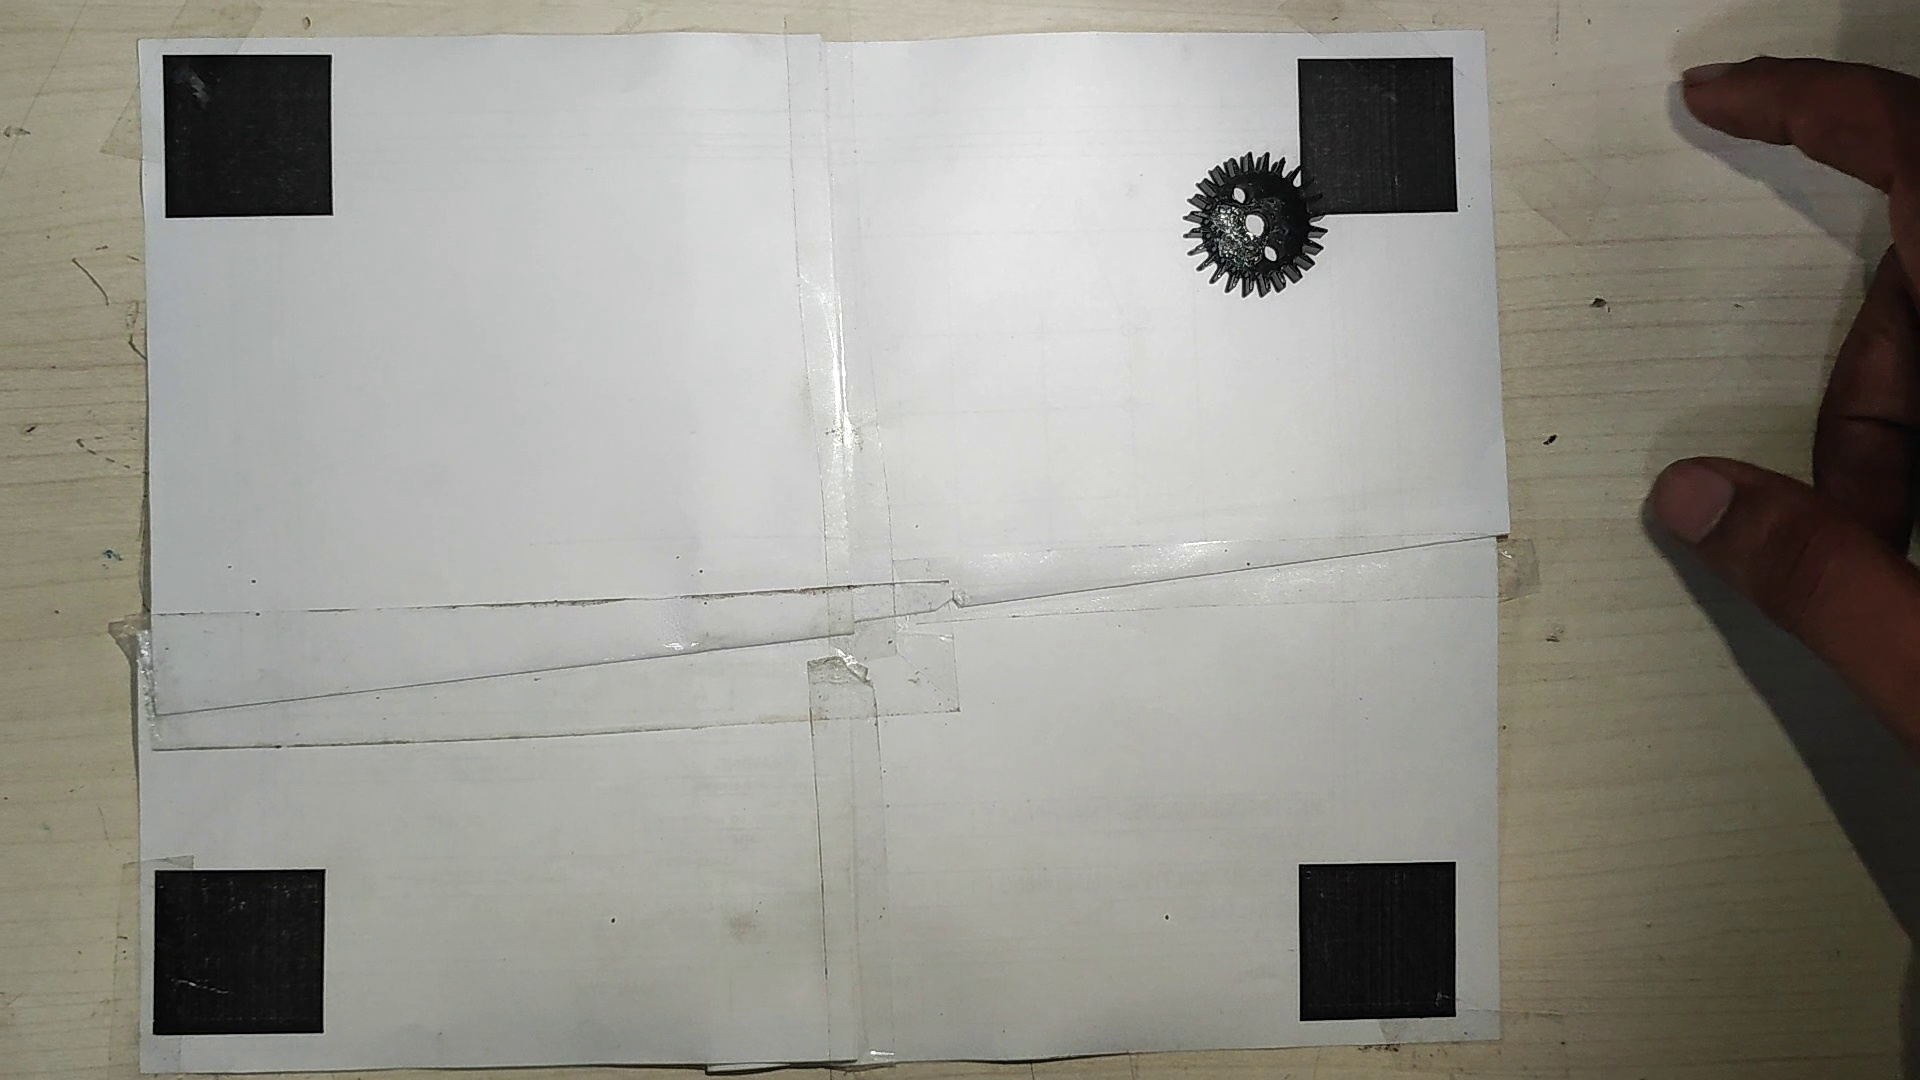Gear: (1178, 146, 1327, 298)
